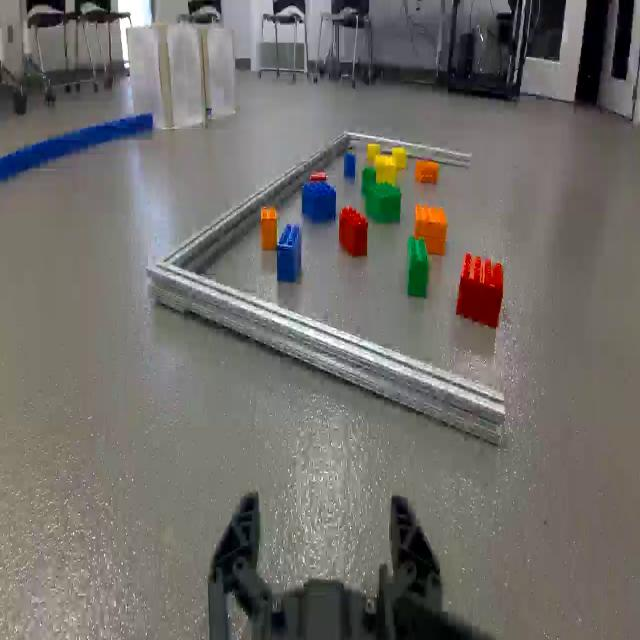block: (374, 154, 396, 185), (392, 147, 406, 170), (367, 142, 380, 166)
blue: (276, 222, 301, 286), (302, 178, 336, 223), (344, 152, 355, 180)
green: (405, 235, 431, 303), (368, 181, 400, 222), (362, 166, 376, 194)
metal barrier: (146, 126, 508, 447)
orange: (415, 205, 447, 256), (261, 206, 277, 250), (414, 159, 438, 185)
red goal: (456, 254, 503, 328), (340, 201, 367, 259), (310, 170, 326, 181)
river: (0, 109, 152, 185)
storage cube: (126, 25, 204, 132), (177, 18, 237, 126)
